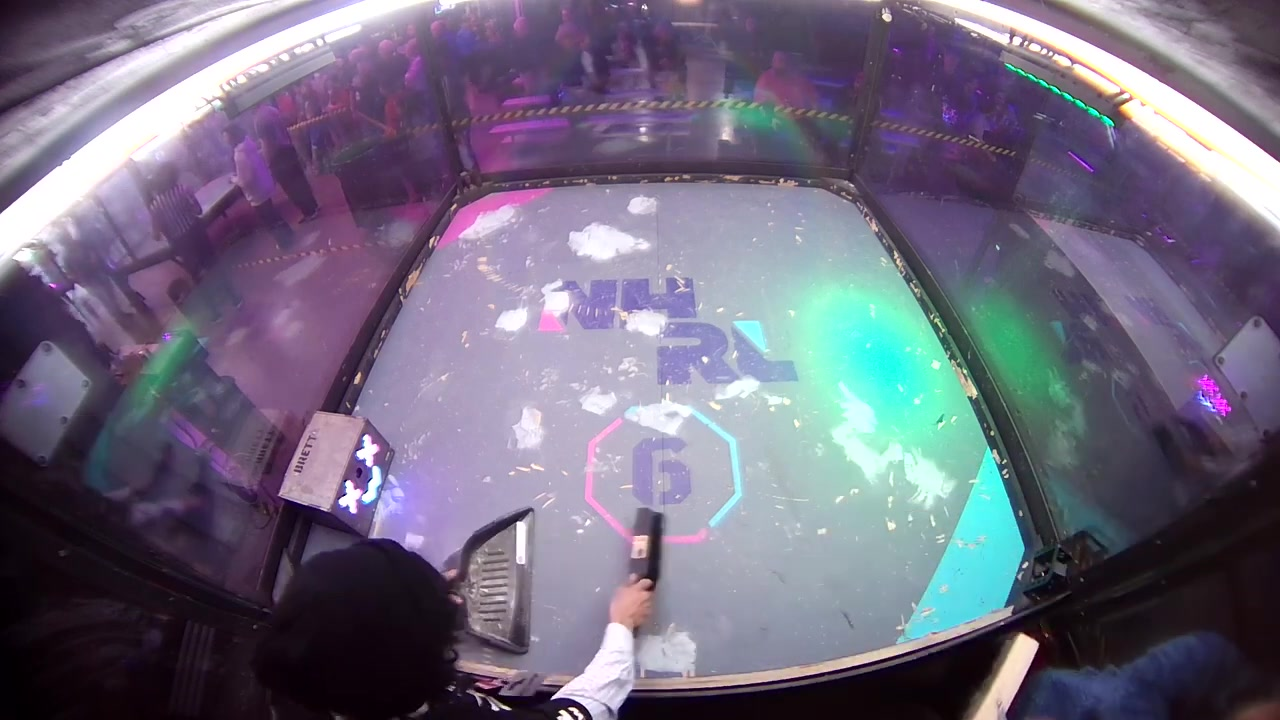housebot: (281, 412, 393, 538)
